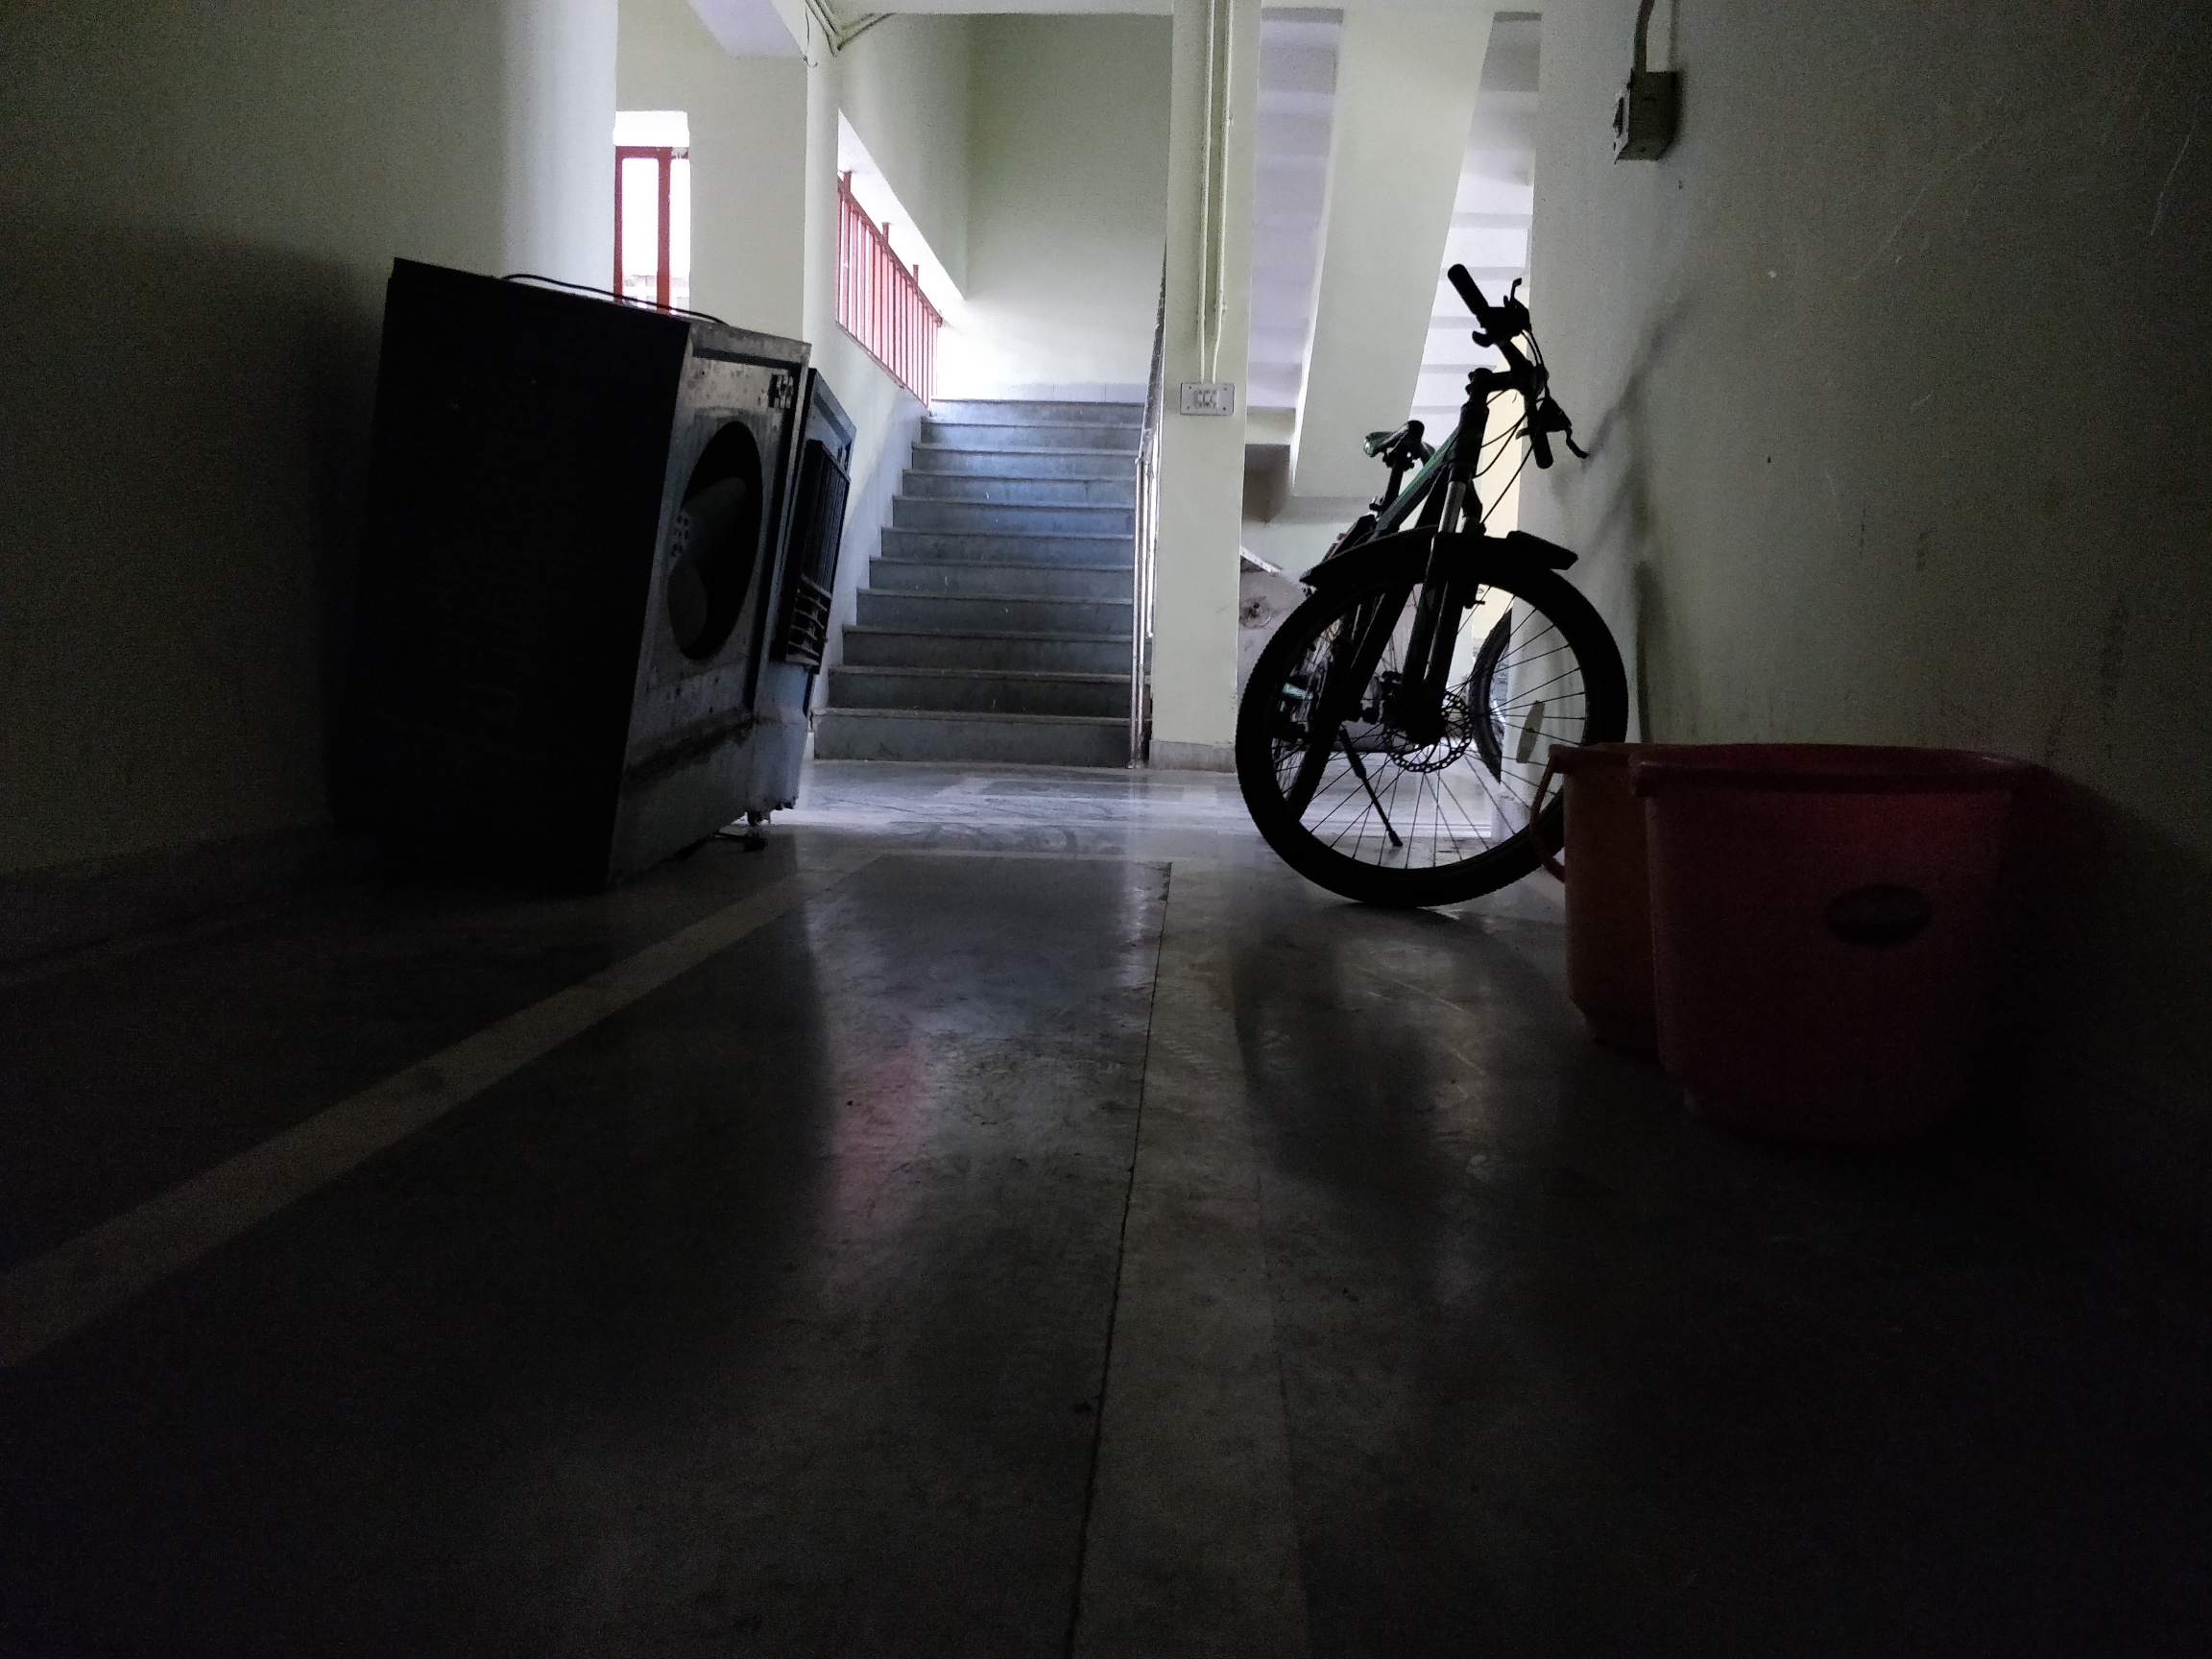stairs_up: (817, 389, 1160, 763)
